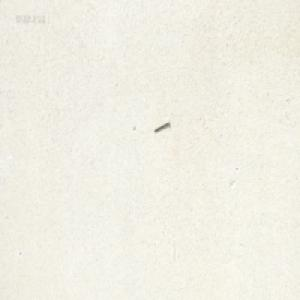Bolt: (153, 120, 169, 132)
